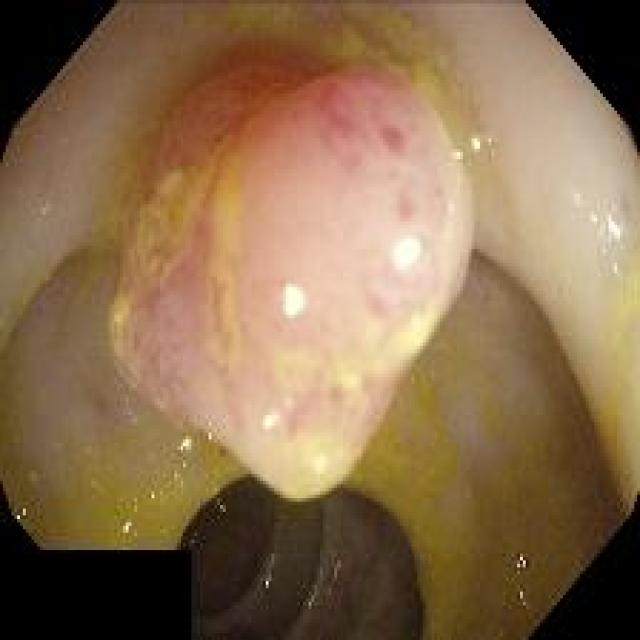Polyps: (109, 64, 474, 501)
